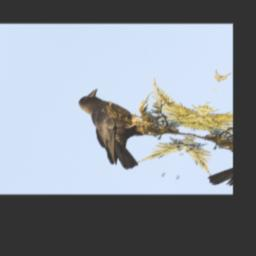Crow: (48, 85, 175, 171)
